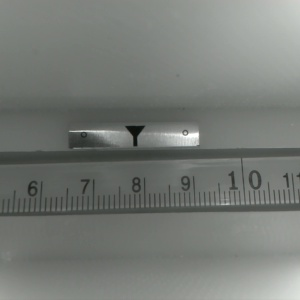0: (248, 170, 262, 190)
1: (228, 170, 236, 189), (282, 173, 289, 188), (296, 172, 300, 187)
6: (26, 180, 37, 197)
7: (79, 179, 89, 194)
8: (130, 176, 140, 192)
9: (180, 175, 190, 191)
finger: (123, 125, 145, 146)
